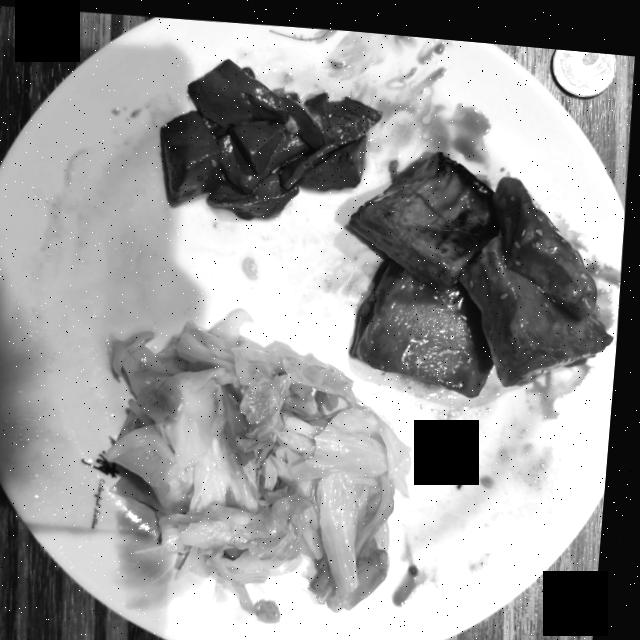cabbage: (112, 312, 418, 608)
coin: (551, 39, 615, 85)
creamy tofu: (352, 144, 616, 387)
pig blood curd: (162, 55, 383, 214)
